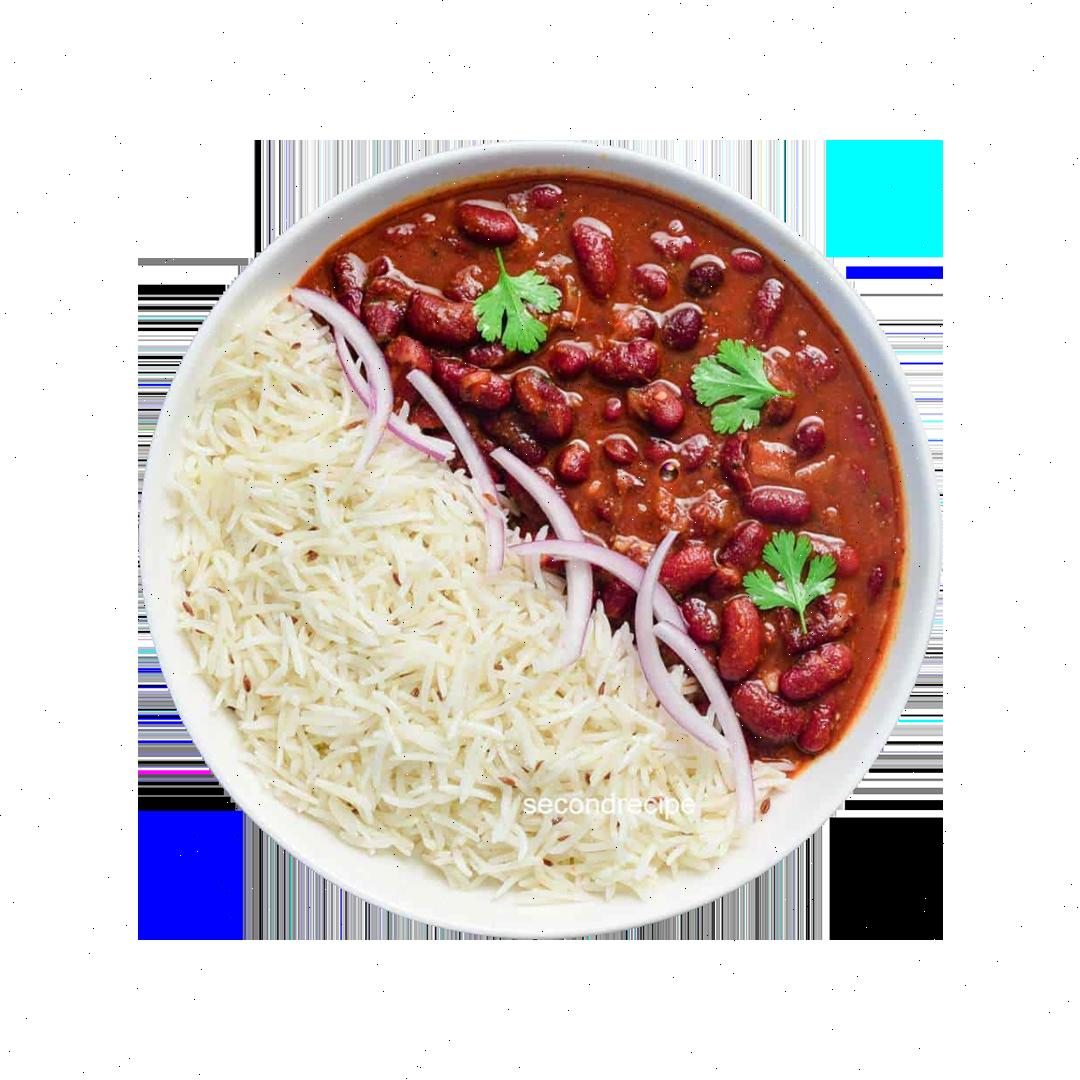rajma: (480, 167, 878, 522)
rice: (205, 535, 565, 915)
